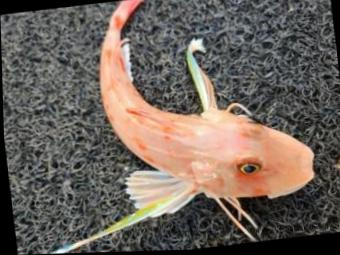fish: (98, 0, 314, 243)
